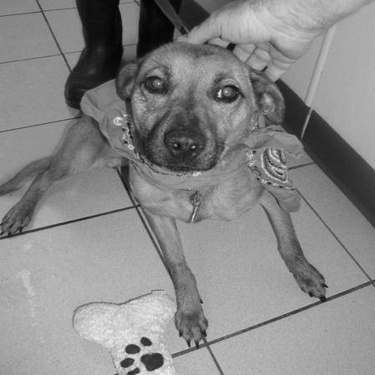dog: (1, 44, 329, 349)
